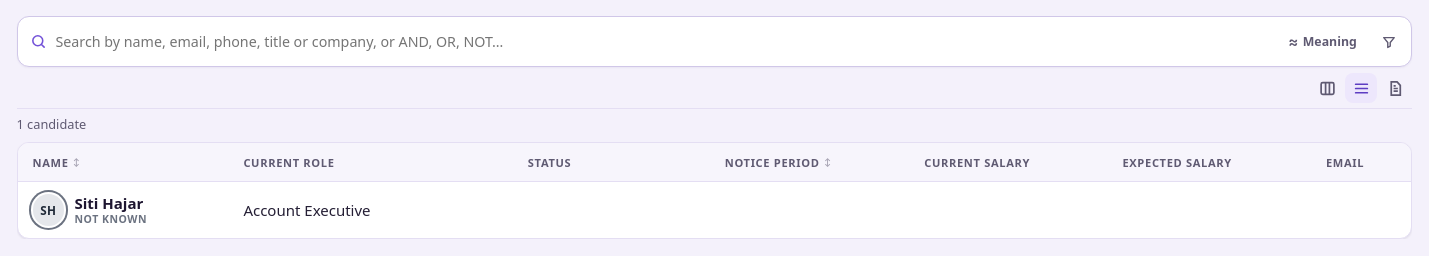
it: searching candidates by meaning › offers no search by meaning for words that found someone (a name), nor on a server without it
Earlier steps of the test are not shown.
Expected: the link "Siti Hajar" is shown, top-left (74, 193), bottom-right (143, 213)
Replace the text in the field named "Search candidates" with "talent acquisition" at coordinates (663, 42), box top-left (52, 22), bottom-right (1273, 62)
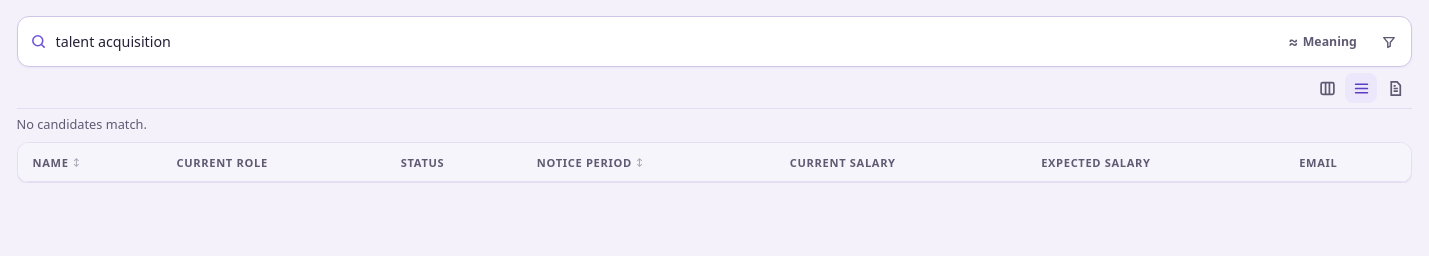
Result: the text "No candidates match." is shown at top-left (16, 115), bottom-right (147, 135)
